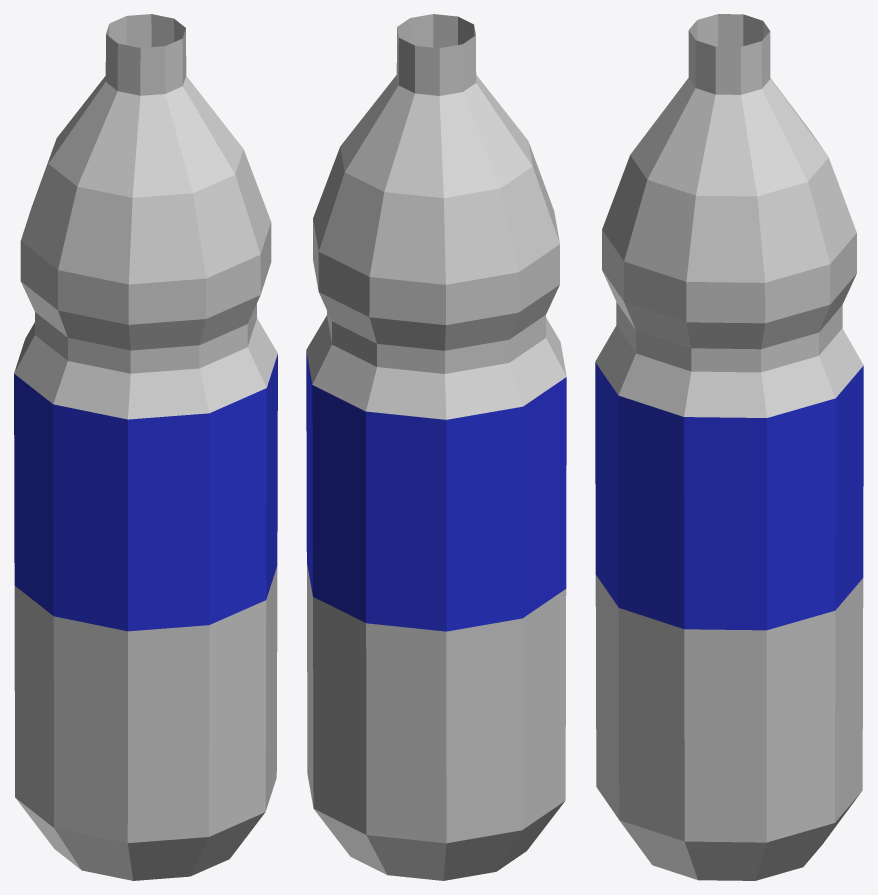
Rendered from Botol Plastik.fbx.
3 renders of one model, left to right at view 1: azimuth 30°, elevation 25°; view 2: azimuth 150°, elevation 25°; view 3: azimuth 270°, elevation 25°, orthographic.
Visible parts, largest first — view 1: Botol; view 2: Botol; view 3: Botol.
Boxes of the visible parts, left/top/right/bottom form: Botol: left=14, top=14, right=277, bottom=880; Botol: left=306, top=14, right=566, bottom=880; Botol: left=595, top=14, right=863, bottom=880.
Size of the model in its own units: 83.86 by 291 by 87.3.
